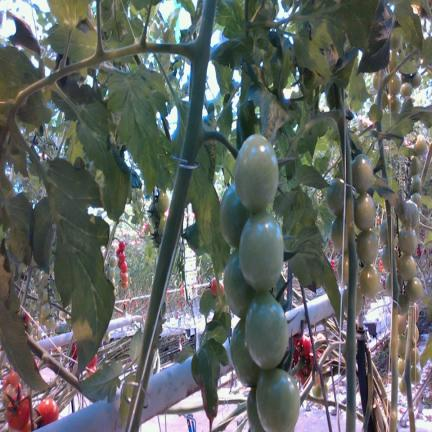6kp_peduncle: (181, 87, 239, 165)
6kp_petiole: (149, 15, 214, 94), (311, 89, 348, 143), (377, 62, 403, 100)
MainStem: (126, 0, 217, 432), (333, 84, 359, 432), (385, 200, 400, 432), (27, 335, 83, 392), (405, 302, 416, 432), (361, 333, 373, 432), (211, 402, 247, 432), (372, 361, 390, 416), (421, 141, 432, 188), (378, 70, 384, 109)
tomato: (239, 212, 284, 290), (234, 134, 278, 213), (245, 291, 288, 369), (256, 368, 300, 431), (224, 250, 256, 317), (230, 318, 260, 386), (220, 184, 250, 247), (352, 154, 373, 193), (247, 387, 265, 431), (7, 394, 29, 430), (354, 193, 375, 230), (357, 230, 378, 264), (325, 178, 344, 215), (330, 214, 347, 253), (360, 264, 379, 298), (342, 286, 363, 316), (37, 398, 58, 425), (379, 218, 396, 246), (398, 254, 416, 280), (381, 245, 399, 271), (399, 227, 417, 253), (405, 278, 423, 302), (385, 274, 401, 296), (407, 199, 419, 228), (337, 253, 348, 284), (2, 384, 16, 406), (388, 72, 401, 95), (408, 155, 421, 177), (414, 134, 427, 154), (391, 27, 402, 50), (404, 324, 418, 342), (158, 191, 169, 213), (374, 92, 388, 109), (398, 294, 409, 315), (410, 365, 421, 385), (301, 336, 311, 357), (411, 174, 422, 193), (390, 95, 401, 113), (9, 370, 20, 387), (401, 82, 412, 98), (410, 72, 421, 88), (158, 214, 166, 236), (398, 335, 406, 356), (411, 192, 422, 207), (398, 314, 406, 334), (40, 302, 50, 318), (312, 382, 322, 397), (412, 346, 420, 364), (398, 377, 406, 394), (388, 51, 394, 73), (398, 357, 405, 375), (45, 316, 54, 330), (372, 71, 378, 90), (3, 374, 10, 389), (23, 311, 31, 323), (414, 304, 419, 322), (120, 272, 128, 282), (42, 289, 48, 302), (27, 322, 33, 334), (119, 240, 125, 251), (119, 251, 125, 262), (121, 262, 127, 272), (137, 189, 143, 198), (121, 282, 128, 289), (139, 198, 143, 209), (116, 247, 120, 256)
